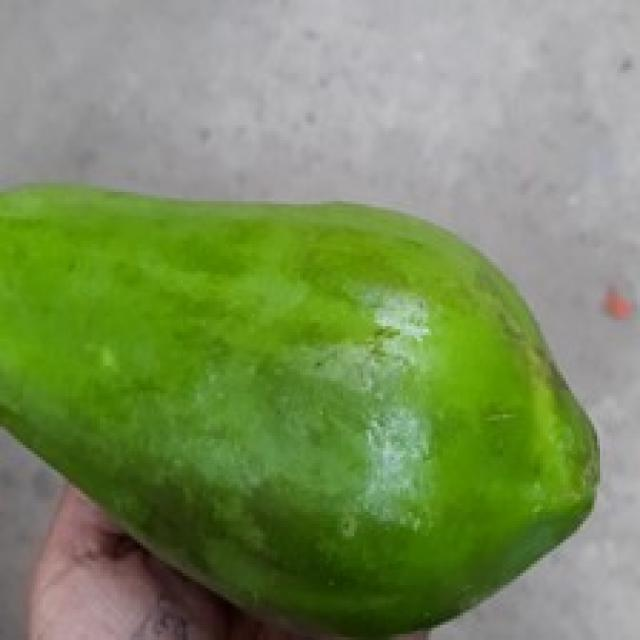Pepaya unrippen: (1, 150, 609, 640)
